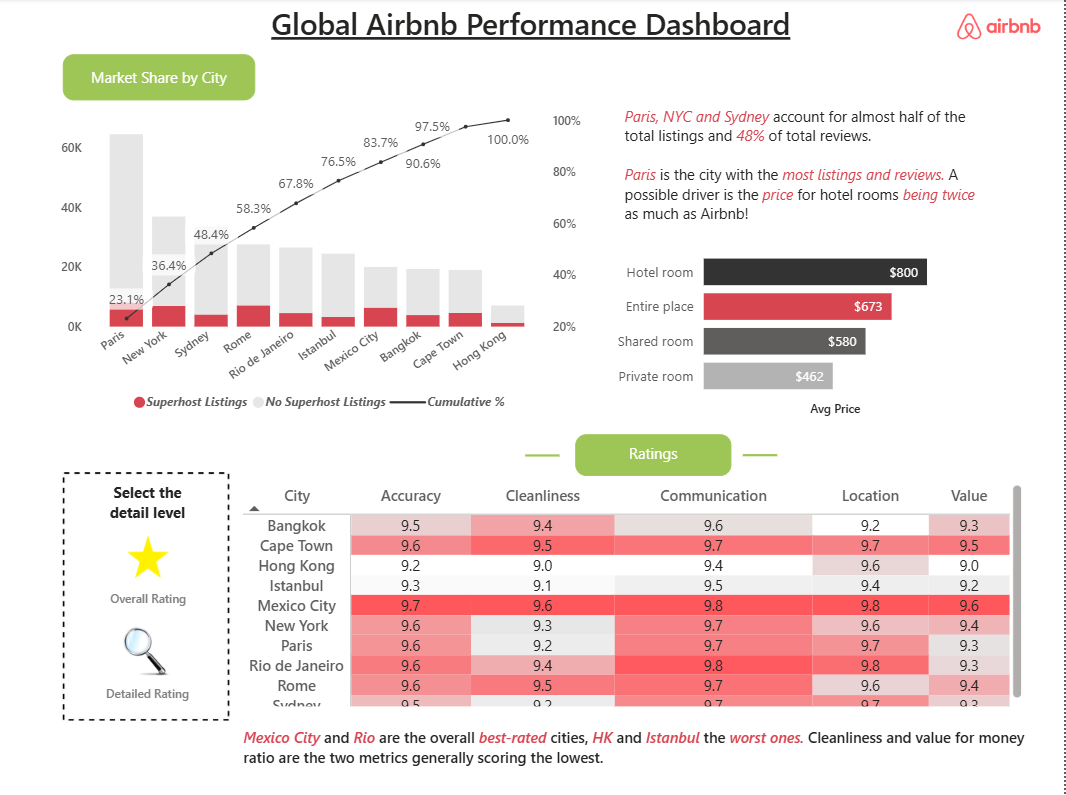

Layout of this report page (visuals, bound fields, positions):
{"tool":"powerbi","page":{"name":"Ratings","canvas":[960,720],"ordinal":1},"visuals":[{"type":"textbox","box":[237.1,0,485.7,51.4],"z":0},{"type":"image","box":[841.4,0,118.6,51.4],"z":1000},{"type":"textbox","box":[57.5,51.2,173.8,41.2],"z":2000},{"type":"textbox","box":[558.8,92.5,330,117.5],"z":3000},{"type":"lineStackedColumnComboChart","fields":{"Category":["Listings.city"],"Y":["Listings.Superhost Listings","Listings.No Superhost Listings"],"Y2":["Listings.Cumulative %"]},"box":[51.2,95,480,287.5],"z":4000},{"type":"barChart","fields":{"Category":["Listings.room_type"],"Y":["Listings.Avg Price"]},"box":[546.2,210,331.2,172.5],"z":5000},{"type":"image","box":[51.2,360,163.8,360],"z":6000},{"type":"textbox","box":[520,393.3,141.1,37.8],"z":7000},{"type":"shape","box":[475,391.4,30.9,42.8],"z":8000},{"type":"shape","box":[671.1,391.1,31.1,42.2],"z":9000},{"type":"textbox","box":[90,431.2,87.5,51.2],"z":10000},{"type":"pivotTable","fields":{"Rows":["Listings.city"],"Values":["Listings.Accuracy","Listings.Cleanliness","Listings.Communication","Listings.Location","Listings.Value"]},"box":[215,433.8,712.5,210],"z":11000},{"type":"image","box":[103.8,482.5,60,41.2],"z":11006,"group":"g1"},{"type":"image","box":[110,567.5,47.5,45],"z":11007,"group":"g2"},{"type":"textbox","box":[90,526.3,88.8,27.5],"z":11013,"group":"g1"},{"type":"textbox","box":[90,612.5,87.5,27.5],"z":11014,"group":"g2"},{"type":"columnChart","fields":{"Category":["Listings.city"],"Y":["Listings.Avg Rating"]},"box":[215,436.2,712.5,207.5],"z":12000},{"type":"group","id":"g1","title":"Group 1","box":[90,482.5,88.8,71.2],"z":13000},{"type":"group","id":"g2","title":"Group 2","box":[90,567.5,87.5,72.5],"z":14000},{"type":"textbox","box":[215,652.5,721.2,46.2],"z":15000}]}

Visuals, with their boxes in screenshot pixels (x1, y1, x2, y2), scaled from the page's 960x720 canvas onto the 1066x795 screenshot:
textbox: l=263, t=0, r=803, b=57
image: l=934, t=0, r=1065, b=57
textbox: l=64, t=57, r=257, b=102
textbox: l=621, t=102, r=987, b=232
lineStackedColumnComboChart - Listings.city x Listings.Superhost Listings: l=57, t=105, r=590, b=422
barChart - Listings.room_type x Listings.Avg Price: l=607, t=232, r=974, b=422
image: l=57, t=398, r=239, b=794
textbox: l=577, t=434, r=734, b=476
shape: l=527, t=432, r=562, b=479
shape: l=745, t=432, r=780, b=478
textbox: l=100, t=476, r=197, b=533
pivotTable - Listings.city x Listings.Accuracy: l=239, t=479, r=1030, b=711
image: l=115, t=533, r=182, b=578
image: l=122, t=627, r=175, b=676
textbox: l=100, t=581, r=199, b=611
textbox: l=100, t=676, r=197, b=707
columnChart - Listings.city x Listings.Avg Rating: l=239, t=482, r=1030, b=711
"Group 1" group: l=100, t=533, r=199, b=611
"Group 2" group: l=100, t=627, r=197, b=707
textbox: l=239, t=720, r=1040, b=771
